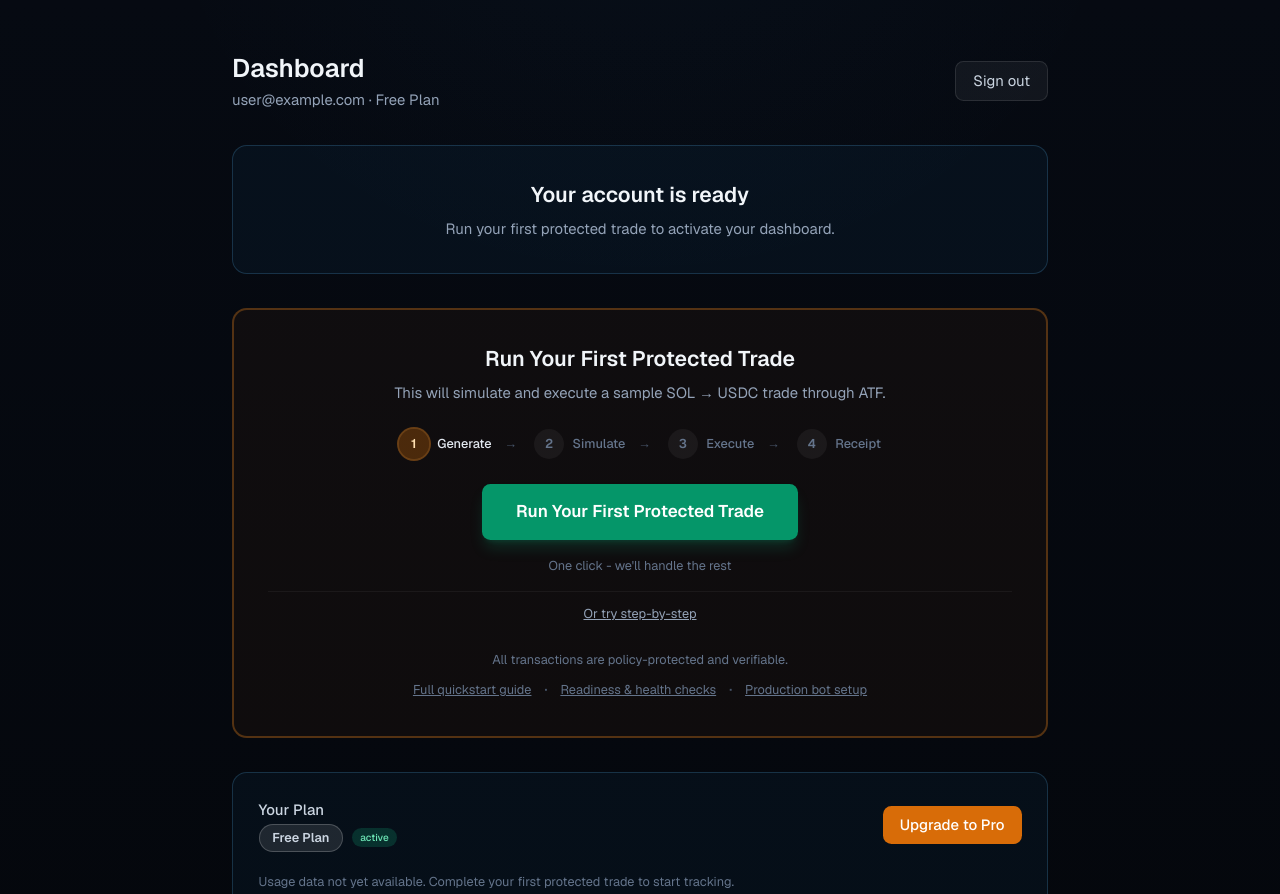
Test: dashboard success state share actions › dashboard actions use correct verify + OG preview links
What coordinates should you click on to do the following:
click the button with test id "quick-trade-btn"
I would click on:
 (640, 512)
Its box is x1=482 y1=484 x2=798 y2=540.
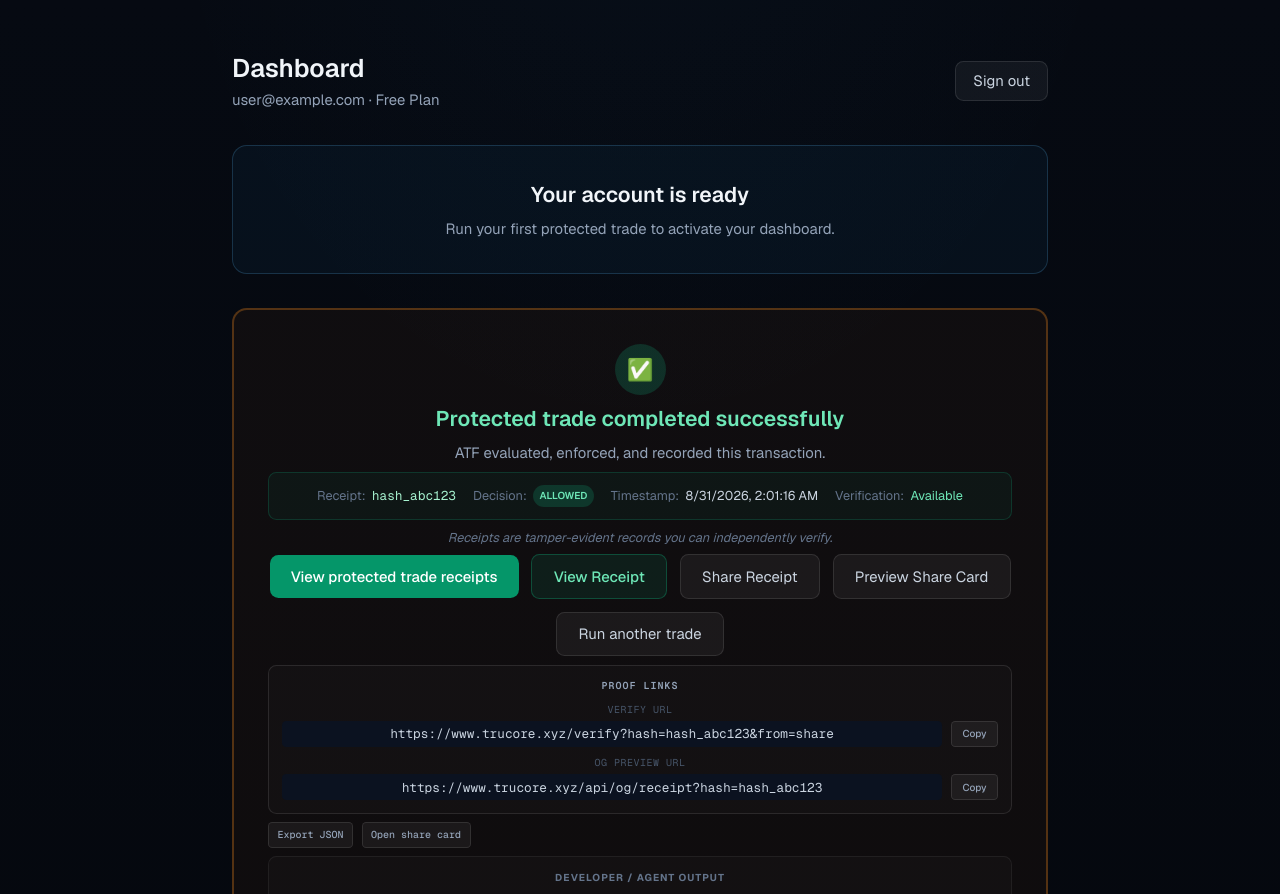
Check: the element with test id "trust-actions" is shown, box x1=268 y1=554 x2=1012 y2=656
